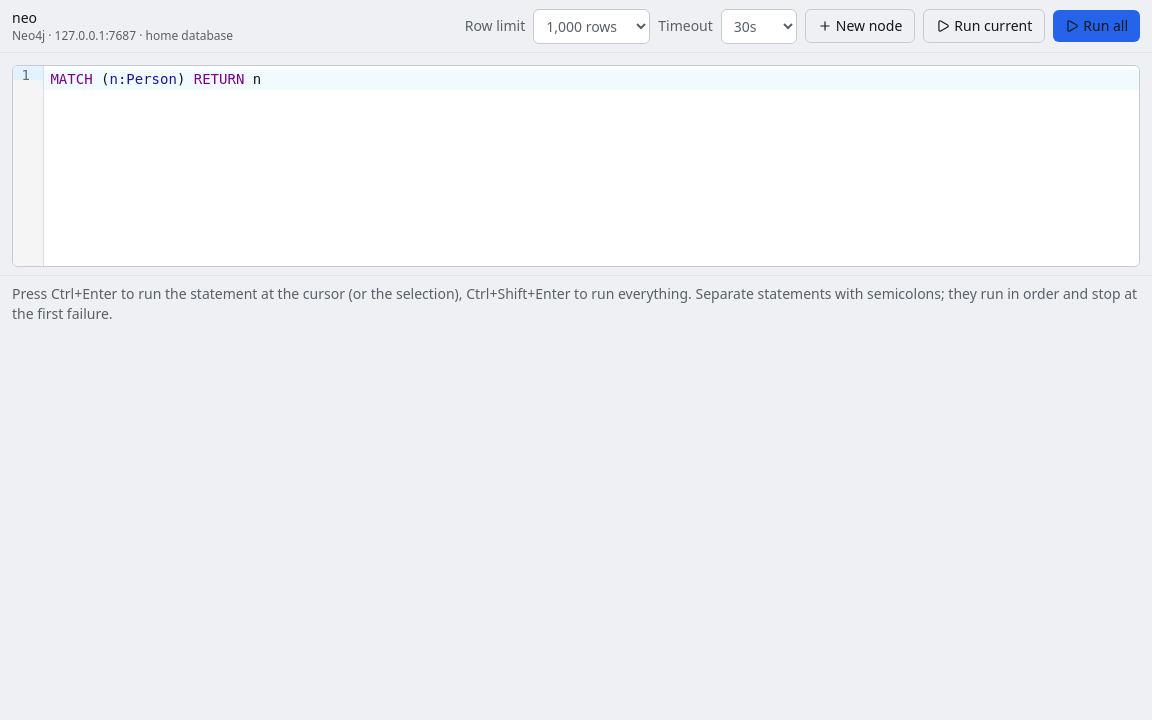
Test: CypherWorkbench 的结果摘要 › 按路由连时写出跑在哪个成员上
Click the button "Run all".
click(1097, 26)  # box [1053,10,1140,42]
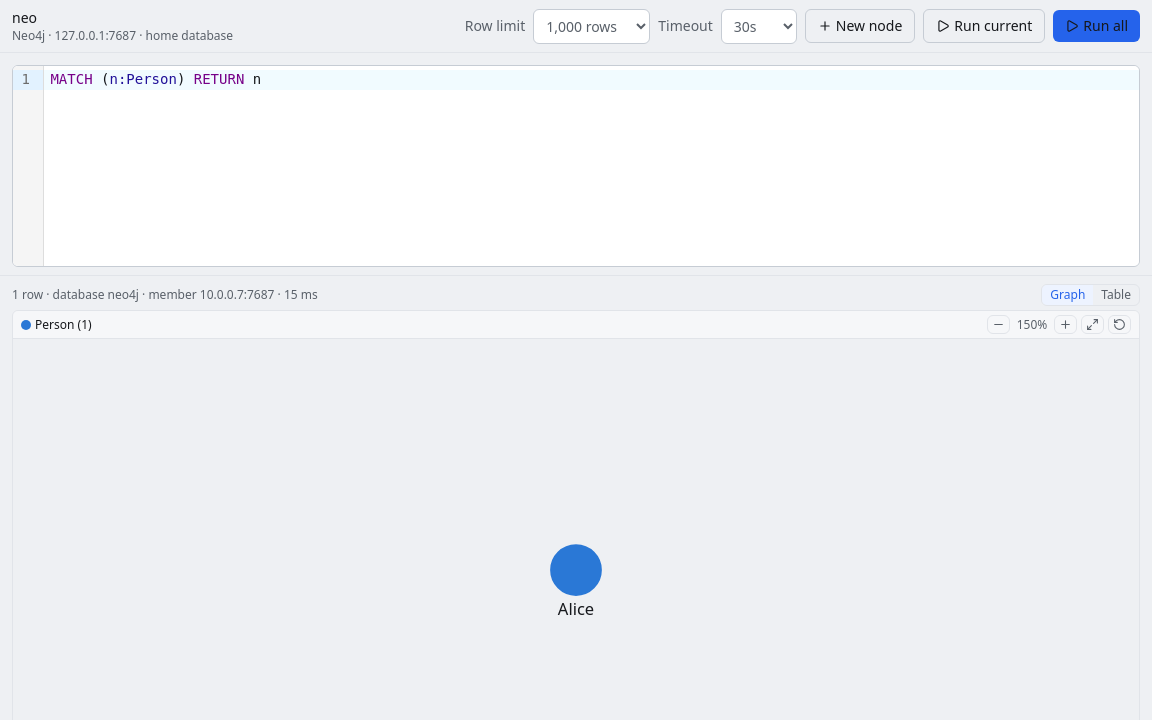
Now the text "member 10.0.0.7:7687" is shown, box [12,286,318,303]
